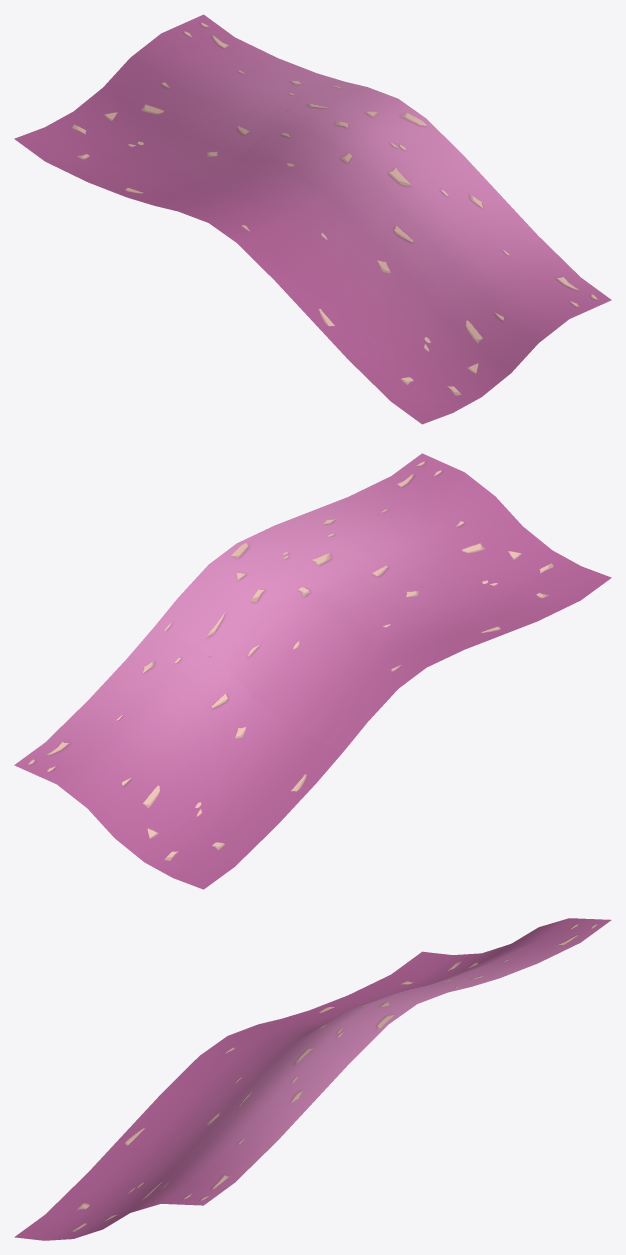
Rendered from scenes_candy_field01.FBX.
3 renders of one model, top to bottom at view 1: azimuth 30°, elevation 25°; view 2: azimuth 150°, elevation 25°; view 3: azimuth 330°, elevation 25°, orthographic.
Parts seen in each view (by area): view 1: scenes_candy_field01; view 2: scenes_candy_field01; view 3: scenes_candy_field01.
Part boxes in pixels (left/top/right/bottom): scenes_candy_field01: left=14, top=14, right=611, bottom=424; scenes_candy_field01: left=14, top=453, right=611, bottom=889; scenes_candy_field01: left=14, top=918, right=611, bottom=1240.
Bounding box in the file's own units: 627 × 433 × 2337.
